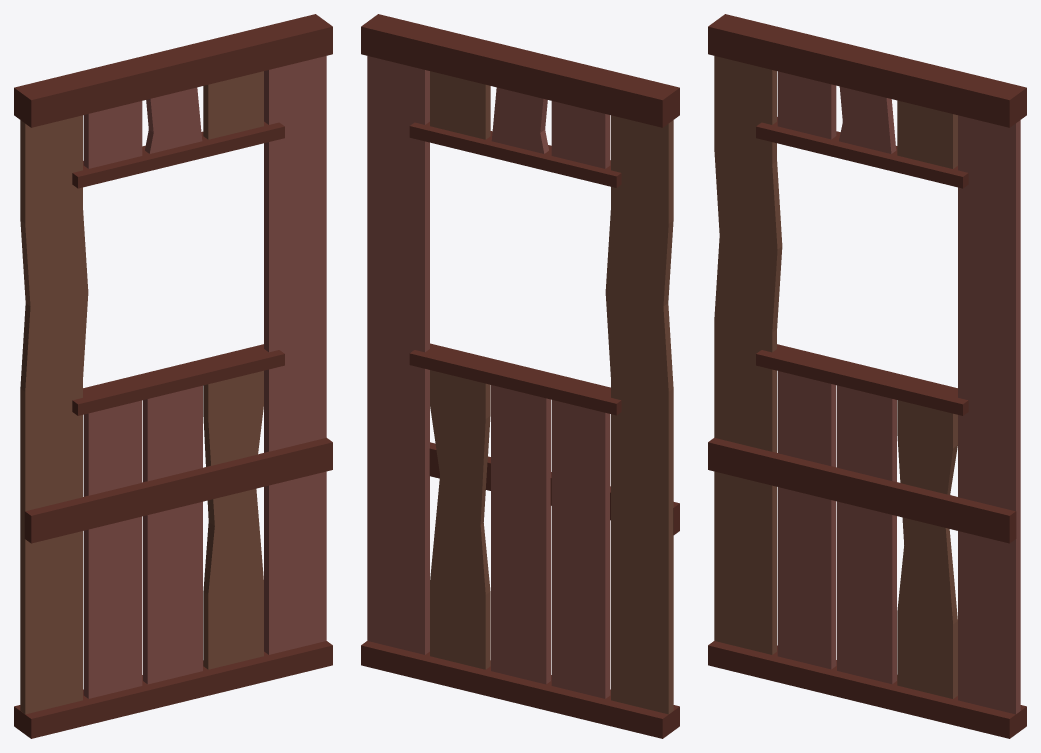
File: ScrapWindow2.fbx
The picture shows the model from 3 angles, left to right: view 1: azimuth 30°, elevation 25°; view 2: azimuth 150°, elevation 25°; view 3: azimuth 330°, elevation 25°; orthographic projection.
Visible parts, largest first — view 1: Cube; view 2: Cube; view 3: Cube.
Boxes of the visible parts, box(x1,y1,x2,y2) form: Cube: box(14, 14, 332, 738); Cube: box(361, 14, 679, 738); Cube: box(708, 14, 1026, 738).
Size of the model in its own units: 200 by 405 by 19.8.
